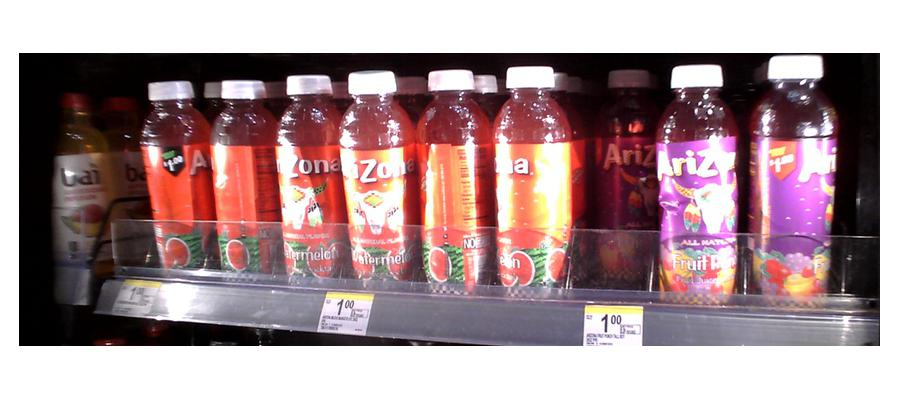bottle: (751, 51, 832, 312), (662, 60, 740, 305), (493, 65, 573, 299), (417, 63, 488, 293), (342, 70, 414, 292), (141, 77, 212, 273), (277, 68, 341, 284), (211, 74, 277, 280), (601, 64, 656, 286)
